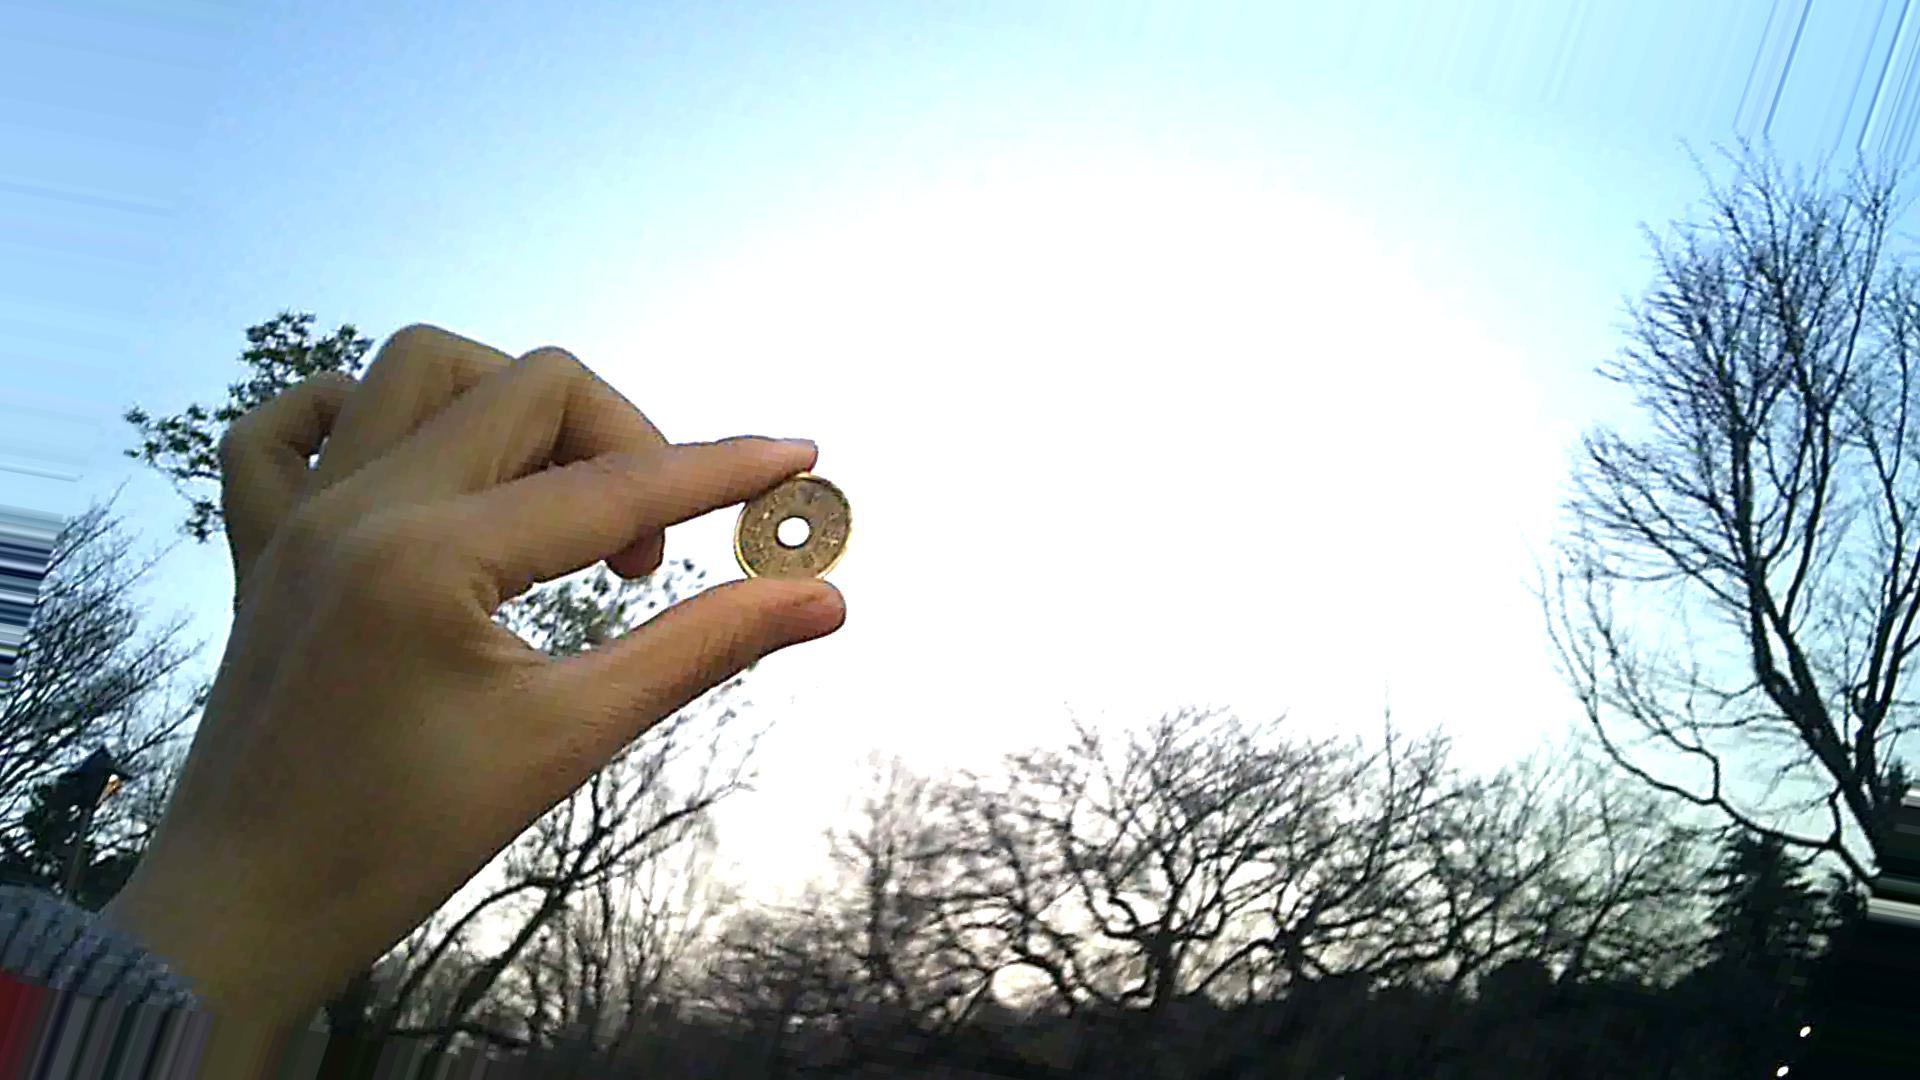5 Yen: (733, 446, 869, 593)
